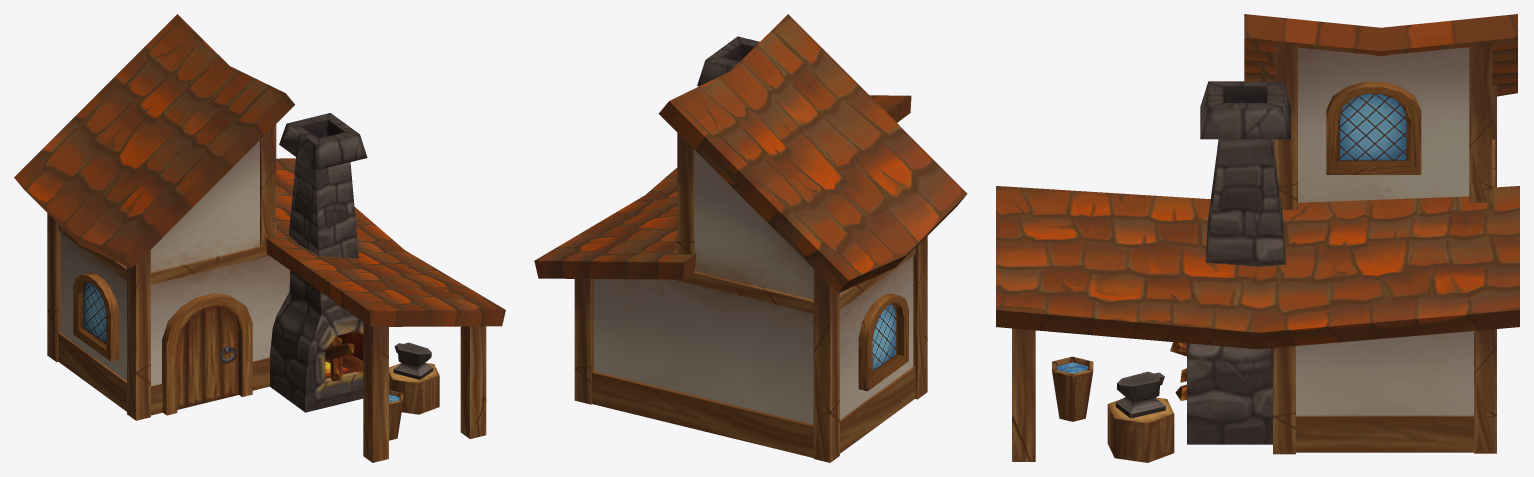
The model's file is building_4_3.FBX.
3 renders of one model, left to right at view 1: azimuth 30°, elevation 25°; view 2: azimuth 150°, elevation 25°; view 3: azimuth 270°, elevation 25°, orthographic. The views are drawn at different scales.
Visible parts, largest first — view 1: building_4_3; view 2: building_4_3; view 3: building_4_3.
Boxes of the visible parts, x1,y1,x2,y2 form: building_4_3: (14, 14, 505, 462); building_4_3: (534, 14, 967, 462); building_4_3: (996, 14, 1519, 462).
Size of the model in its own units: 235 by 235 by 292.
